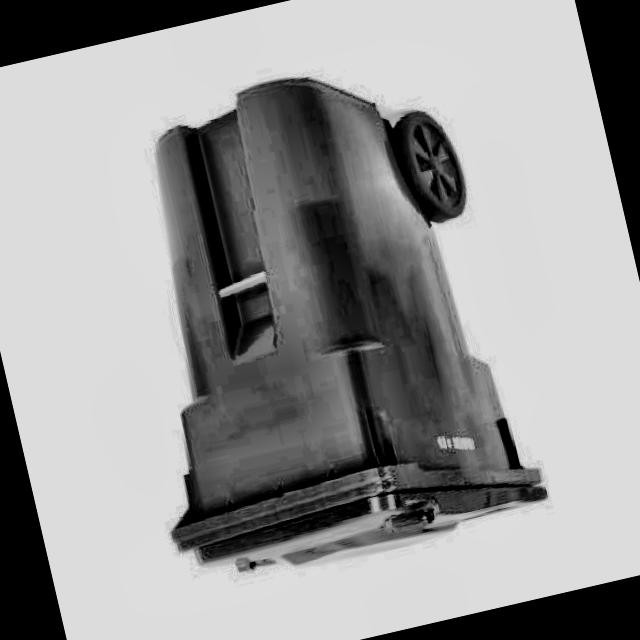Dustbin: (64, 29, 574, 612)
